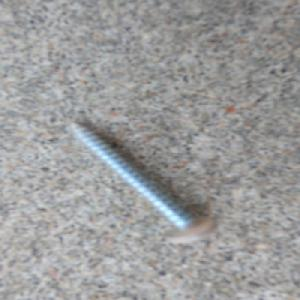Screw: (62, 116, 218, 244)
